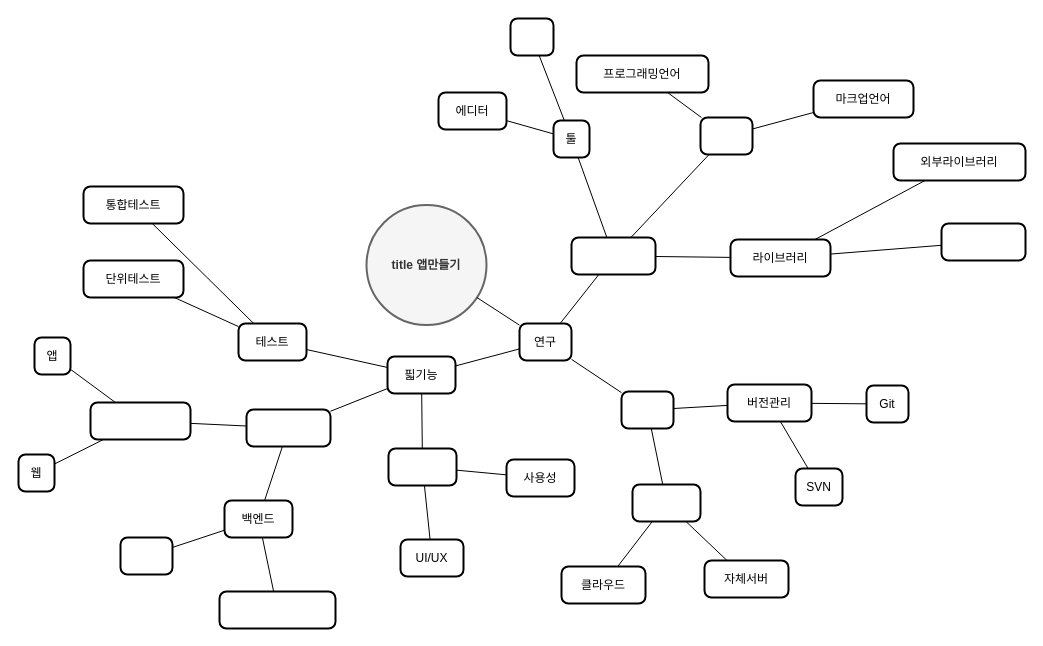
Image size: 1043x646. Some labels were removed from this diagram. The shapes that lost their labels are listed below. From the top down, each one's centre as x and y in pixels, then its label:
At (531,36): "IDE".
At (726,135): "언어".
At (613,255): "개발환경".
At (983,241): "오픈소스".
At (140,420): "프론트엔드".
At (288,427): "기능구현".
At (647,409): "배포".
At (422,466): "디자인".
At (666,502): "플랫폼".
At (146,555): "서버".
At (277,609): "데이터베이스".
